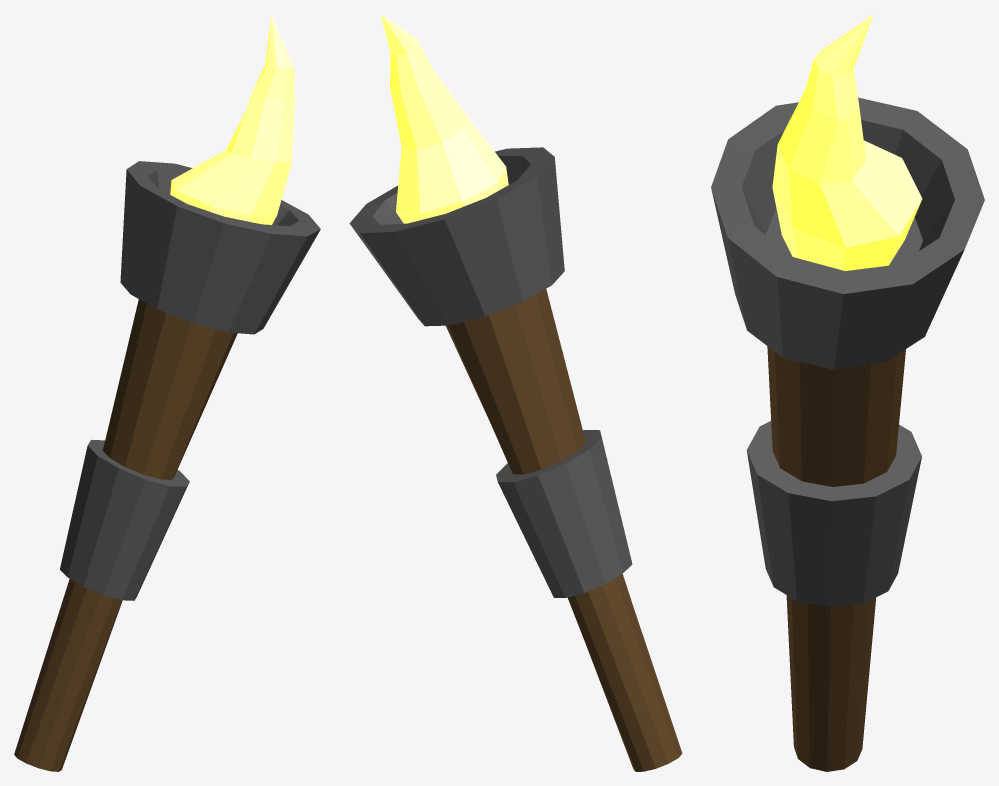
File: Torch.fbx
The picture shows the model from 3 angles, left to right: view 1: azimuth 30°, elevation 25°; view 2: azimuth 150°, elevation 25°; view 3: azimuth 270°, elevation 25°; orthographic projection. The views are drawn at different scales.
Parts seen in each view (by area): view 1: Torch.001; view 2: Torch.001; view 3: Torch.001.
Part boxes in pixels (x1,y1,x2,y2): Torch.001: (14,15,320,771); Torch.001: (349,14,682,771); Torch.001: (711,14,984,771).
Size of the model in its own units: 151 by 333 by 91.07.
